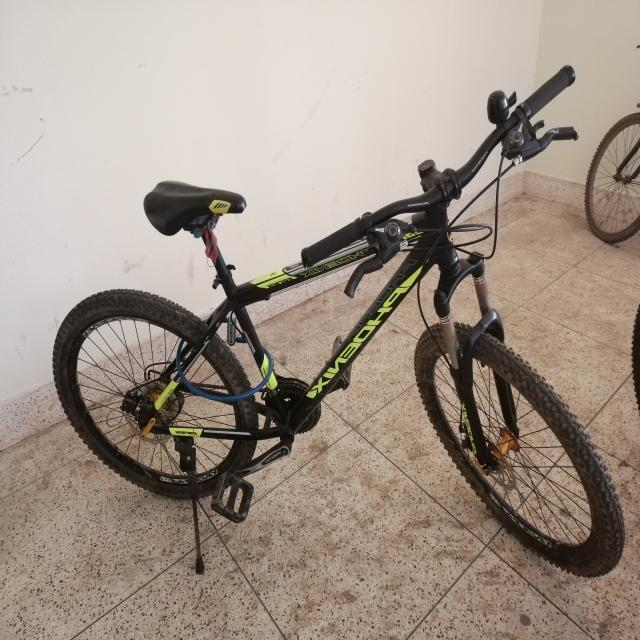Bicycle: (33, 54, 628, 603)
